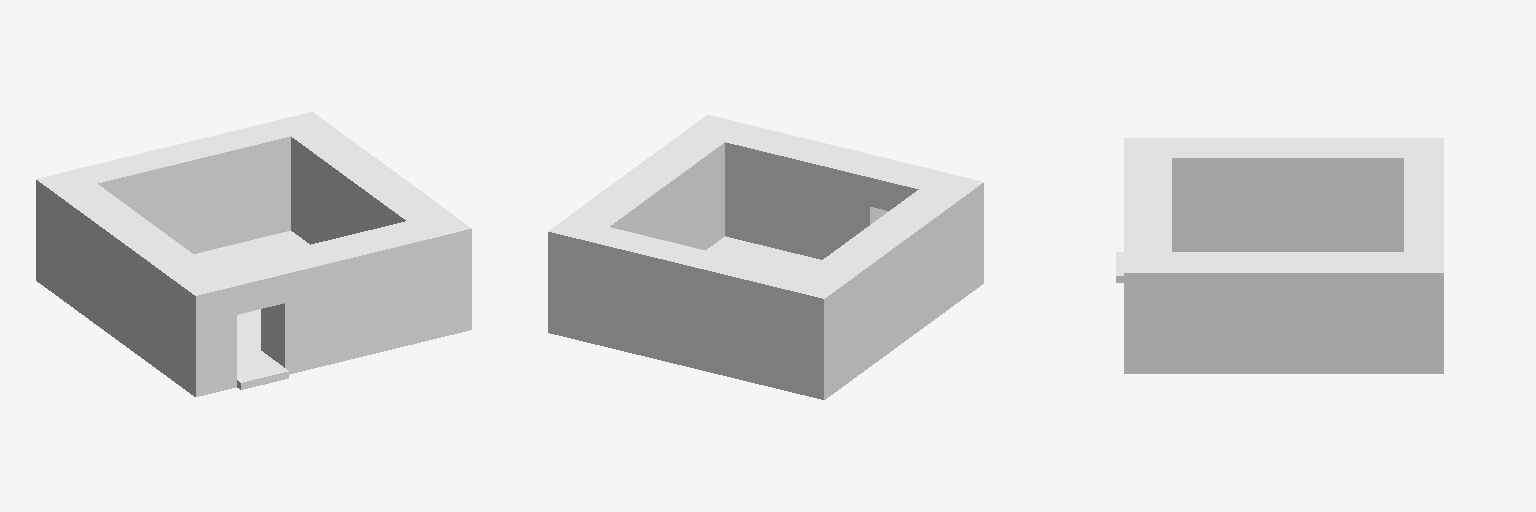
Rendered from Casita.obj.
The picture shows the model from 3 angles: view 1: azimuth 30°, elevation 25°; view 2: azimuth 150°, elevation 25°; view 3: azimuth 270°, elevation 25°; orthographic projection.
Visible parts, largest first — view 1: object 1; view 2: object 1; view 3: object 1.
Boxes of the visible parts, box(x1,y1,x2,y2) form: object 1: box(36, 112, 471, 396); object 1: box(548, 115, 983, 399); object 1: box(1116, 138, 1443, 373).
Bounding box in the file's own units: 4 × 1.4 × 4.1.